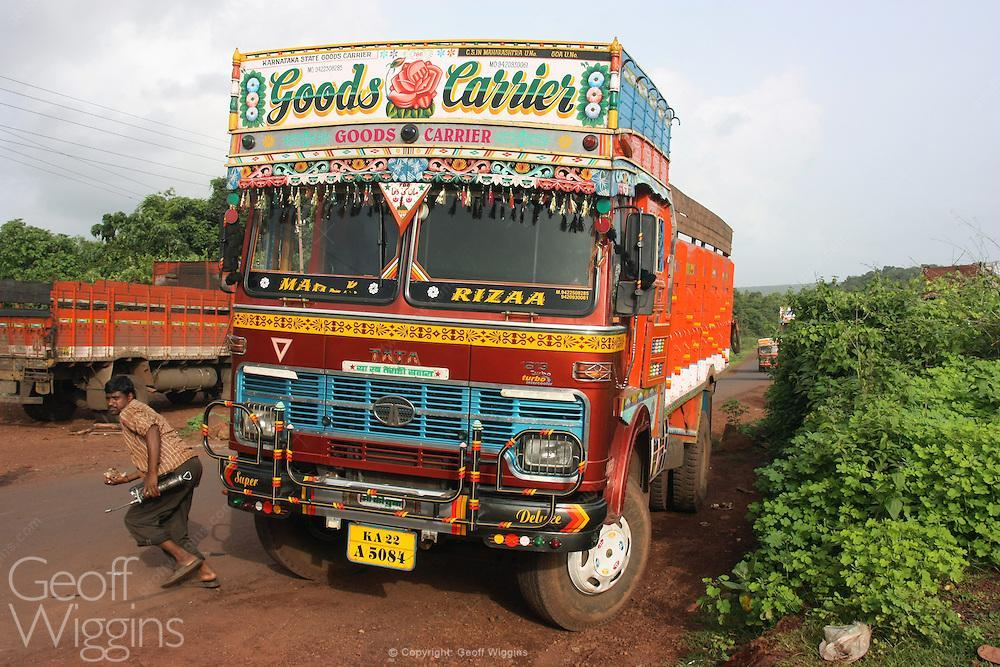truck: (220, 45, 743, 667)
